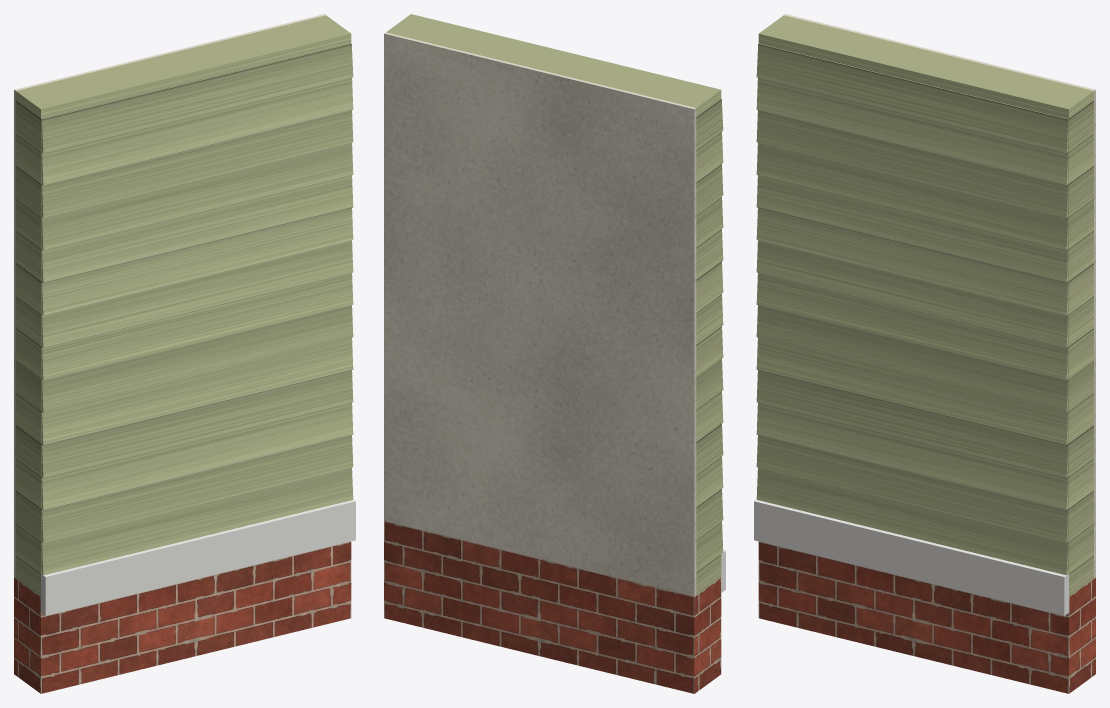
Rendered from wall_siding_plain.glb.
3 renders of one model, left to right at view 1: azimuth 30°, elevation 25°; view 2: azimuth 150°, elevation 25°; view 3: azimuth 330°, elevation 25°, orthographic.
Visible parts, largest first — view 1: wall_siding_plain_siding, wall_siding_plain_brick, wall_siding_plain_trim, wall_siding_plain_plaster; view 2: wall_siding_plain_plaster, wall_siding_plain_brick, wall_siding_plain_siding; view 3: wall_siding_plain_siding, wall_siding_plain_brick, wall_siding_plain_trim, wall_siding_plain_plaster.
Part boxes in pixels (box(x1,y1,x2,y2)): wall_siding_plain_siding: box(16, 15, 353, 596); wall_siding_plain_brick: box(14, 541, 351, 693); wall_siding_plain_trim: box(41, 499, 355, 615); wall_siding_plain_plaster: box(14, 14, 325, 577); wall_siding_plain_plaster: box(384, 32, 696, 596); wall_siding_plain_brick: box(384, 521, 721, 693); wall_siding_plain_siding: box(386, 14, 723, 594); wall_siding_plain_siding: box(756, 15, 1093, 596); wall_siding_plain_brick: box(758, 541, 1095, 693); wall_siding_plain_trim: box(754, 499, 1068, 615); wall_siding_plain_plaster: box(784, 14, 1095, 577).
Bounding box in the file's own units: 2 × 3.6 × 0.35.
4 materials, 3 textured.
